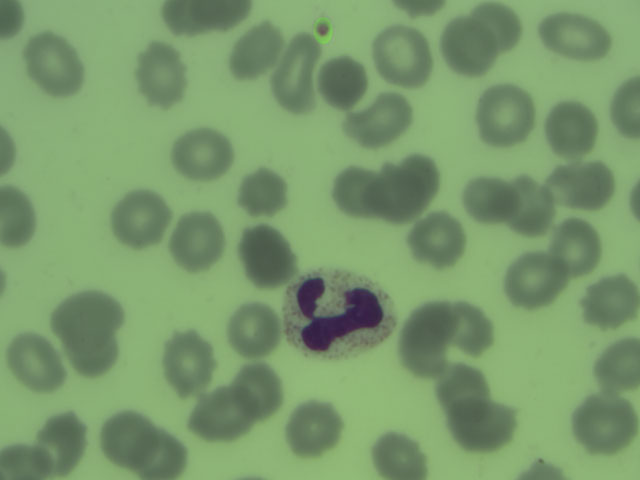Platelets: (310, 16, 338, 49)
RBC: (536, 8, 618, 62), (276, 33, 321, 110), (235, 167, 290, 219), (445, 301, 500, 353), (159, 336, 214, 388), (408, 214, 463, 266), (376, 166, 431, 218), (330, 163, 385, 215), (463, 174, 518, 226), (502, 178, 557, 230), (553, 163, 608, 215), (543, 104, 598, 156), (477, 88, 532, 140), (443, 20, 498, 72), (353, 94, 408, 146), (372, 32, 427, 84), (315, 56, 370, 108), (229, 23, 284, 75), (173, 216, 228, 268), (113, 191, 168, 243), (136, 51, 191, 103), (132, 428, 187, 480), (103, 410, 158, 462), (32, 414, 87, 466), (63, 331, 118, 383), (65, 288, 120, 340), (6, 337, 61, 389), (24, 36, 79, 88), (401, 313, 456, 365), (285, 403, 340, 455), (230, 368, 285, 420), (192, 390, 247, 442), (225, 304, 280, 356), (237, 230, 292, 282), (176, 128, 231, 180), (578, 399, 633, 451), (455, 399, 510, 451), (433, 362, 488, 414), (583, 274, 638, 326), (505, 254, 560, 306), (549, 221, 604, 273), (372, 428, 427, 479), (593, 337, 640, 395), (160, 1, 223, 40), (606, 76, 640, 143), (1, 185, 39, 244), (478, 1, 523, 46), (1, 440, 50, 479), (1, 1, 27, 40)
WBC: (285, 269, 392, 359)
